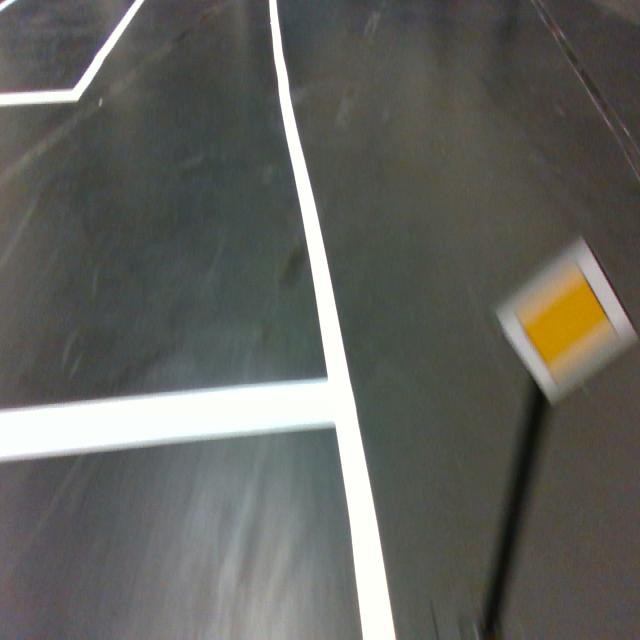priority-sign: (488, 233, 640, 410)
